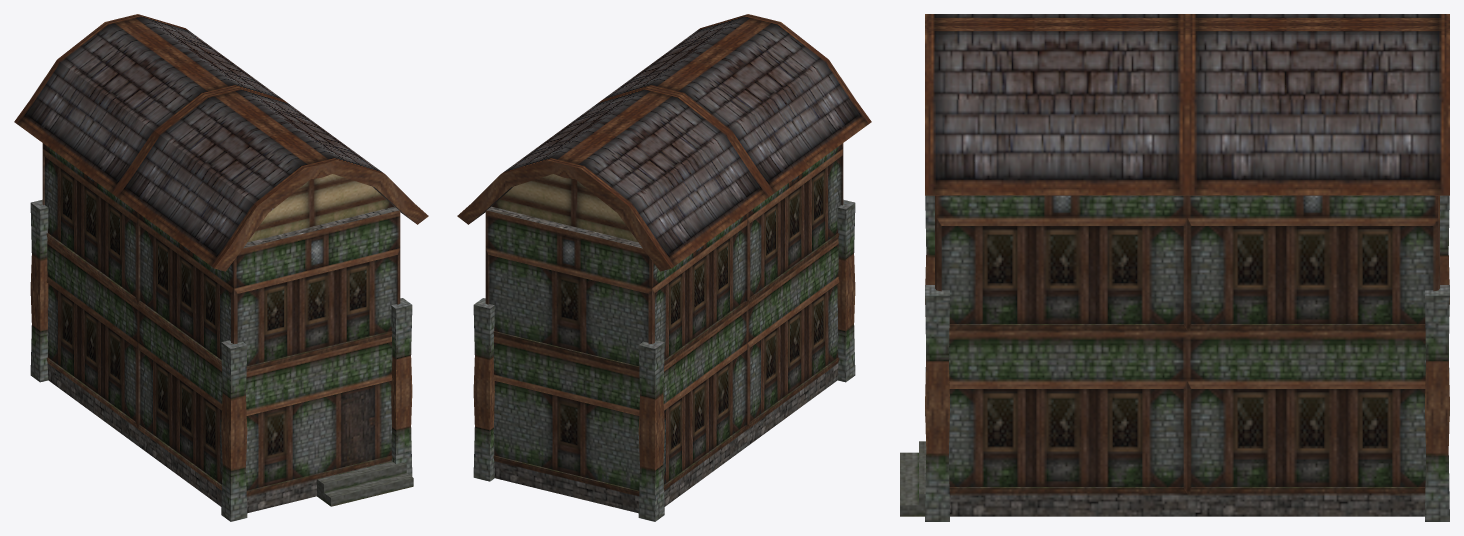
File: House.gltf
3 renders of one model, left to right at view 1: azimuth 30°, elevation 25°; view 2: azimuth 150°, elevation 25°; view 3: azimuth 270°, elevation 25°, orthographic. The views are drawn at different scales.
Parts seen in each view (by area): view 1: MVK_House_09; view 2: MVK_House_09; view 3: MVK_House_09.
Part boxes in pixels (x1=…): MVK_House_09: x1=14, y1=14, x2=428, y2=521; MVK_House_09: x1=457, y1=14, x2=871, y2=521; MVK_House_09: x1=900, y1=14, x2=1449, y2=521.
Size of the model in its own units: 2.6 by 3.88 by 4.4.
Materials: 1 (1 with a texture image).
